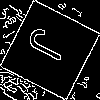J: (25, 25, 78, 69)
